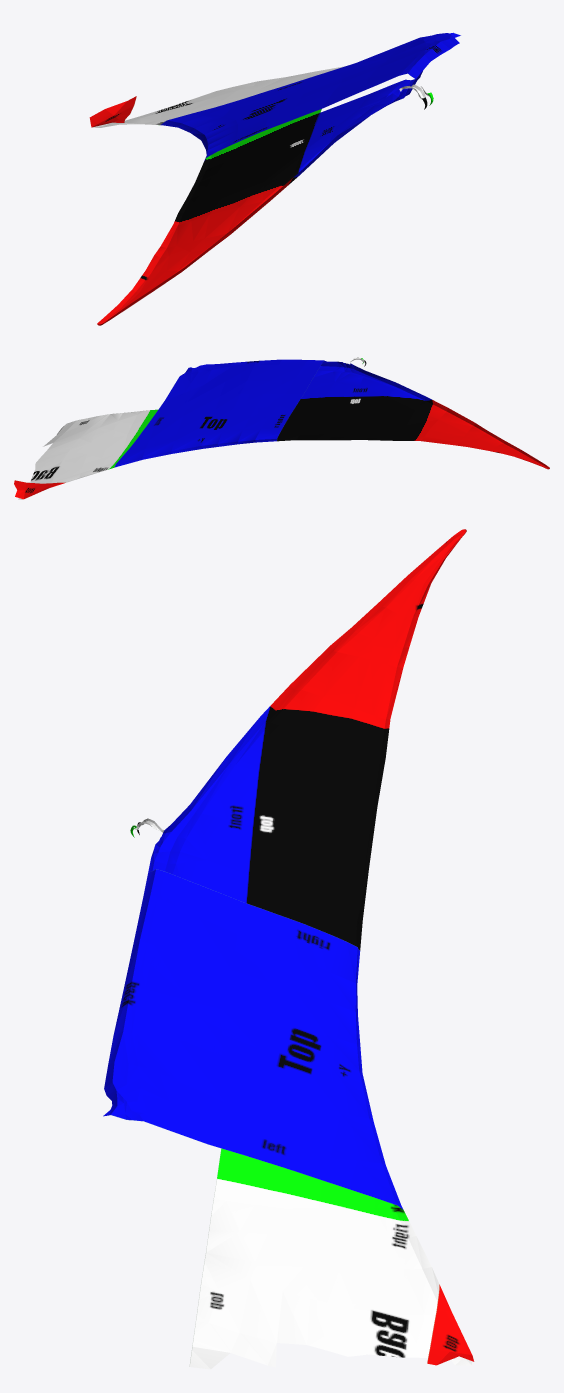
File: dino_right.obj
3 views of the same model, one above another, from view 1: azimuth 90°, elevation 25°; view 2: azimuth 150°, elevation 25°; view 3: azimuth 270°, elevation 25° (orthographic). The views are drawn at different scales.
Parts seen in each view (by area): view 1: rightwing; view 2: rightwing; view 3: rightwing.
Part boxes in pixels (x1=…): rightwing: x1=89, y1=32, x2=460, y2=325; rightwing: x1=14, y1=357, x2=549, y2=499; rightwing: x1=103, y1=529, x2=474, y2=1369.
Size of the model in its own units: 46.94 by 12.84 by 13.94.
